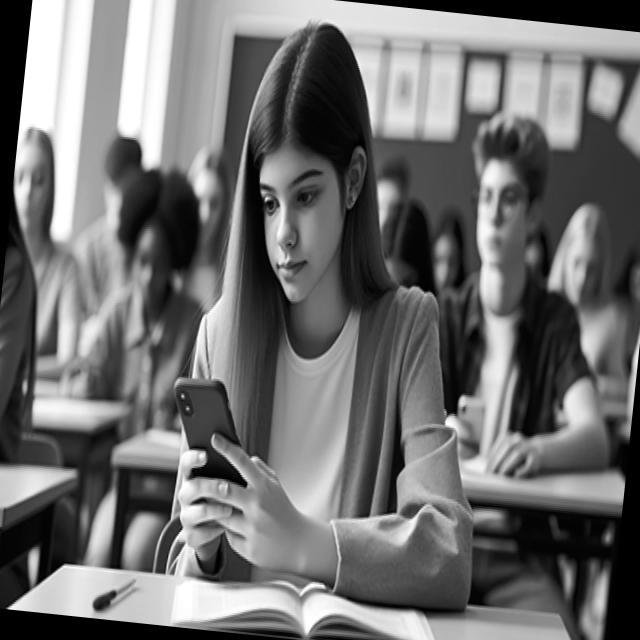phone: (162, 372, 258, 489), (453, 392, 486, 448)
